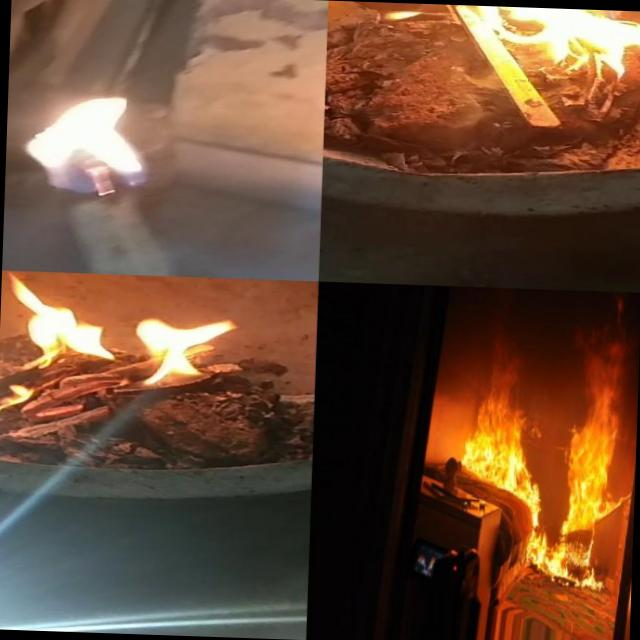fire: (0, 274, 254, 446), (3, 68, 205, 230), (425, 3, 640, 78), (564, 390, 620, 539), (462, 392, 542, 483), (524, 536, 608, 586), (518, 484, 546, 536)
smoke: (574, 315, 628, 392), (486, 335, 524, 395)
